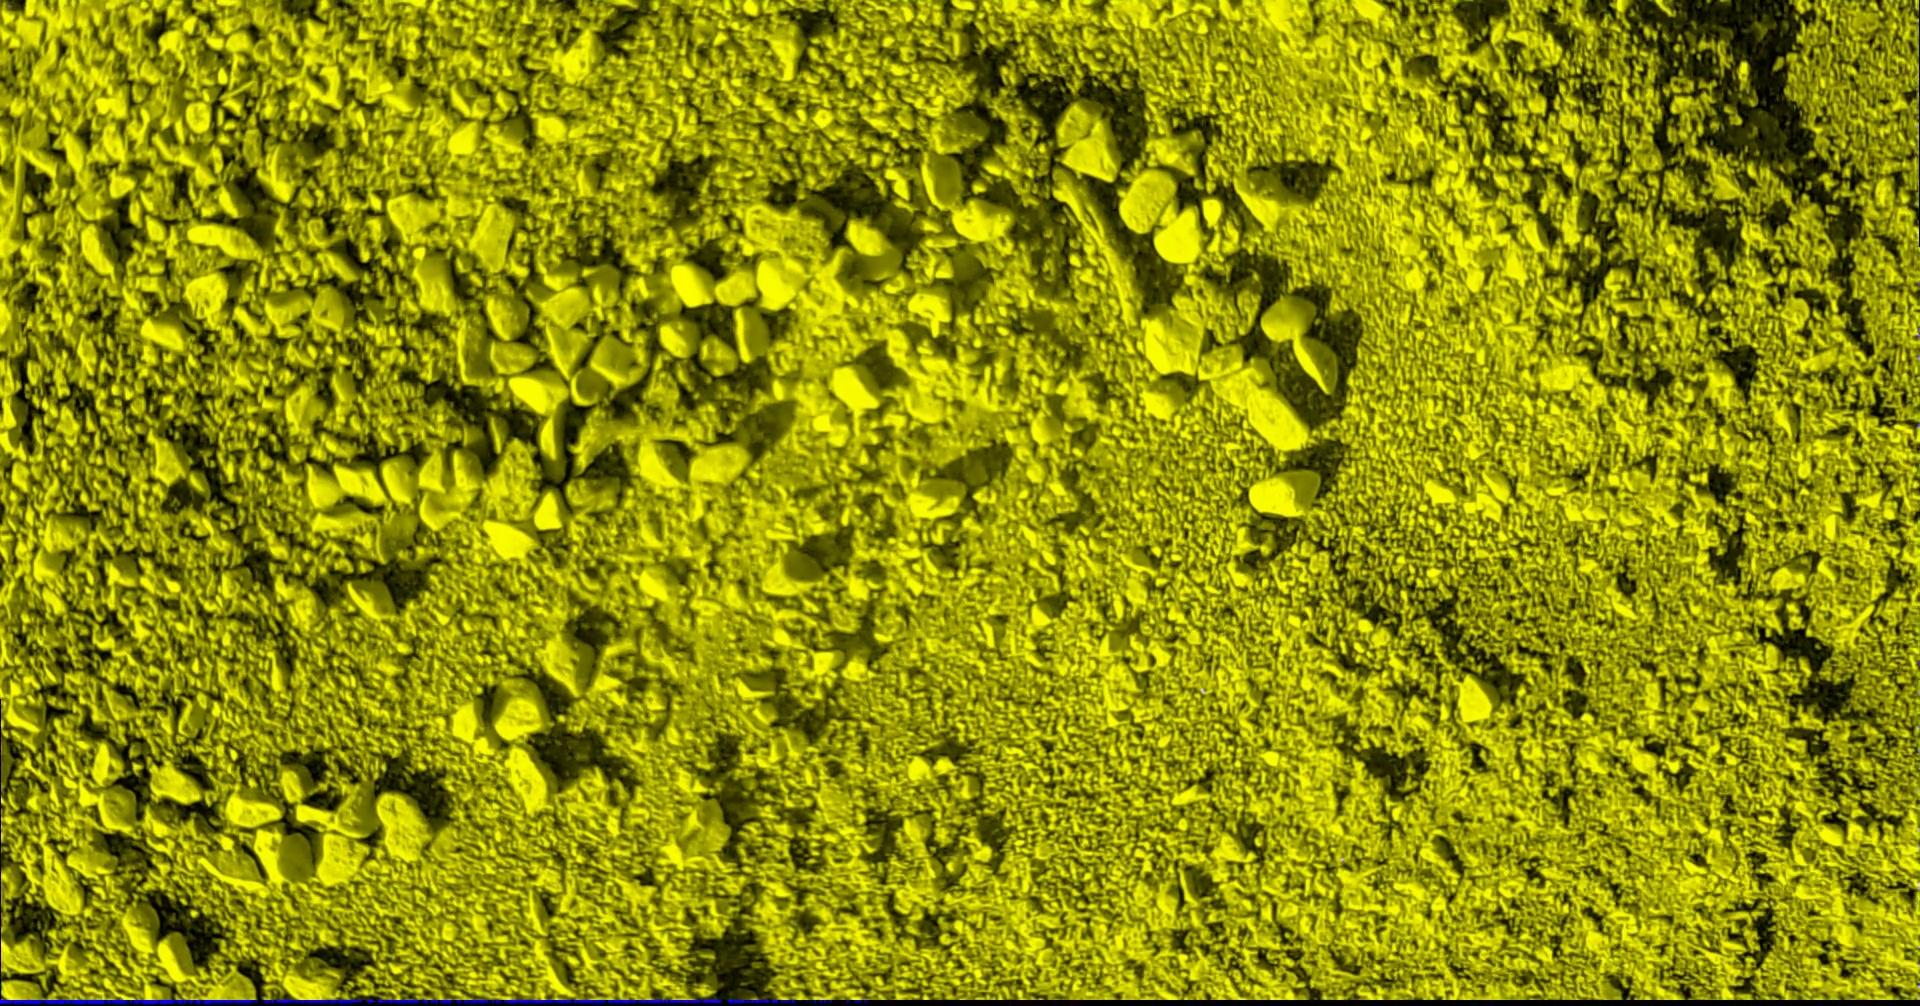ant: (805, 998, 830, 1005), (844, 998, 869, 1005)
